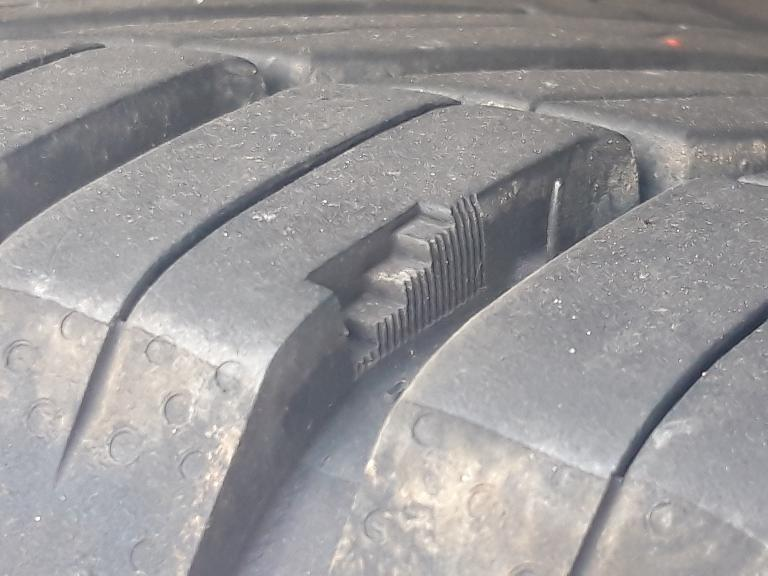temoin:90: (297, 184, 497, 392)
